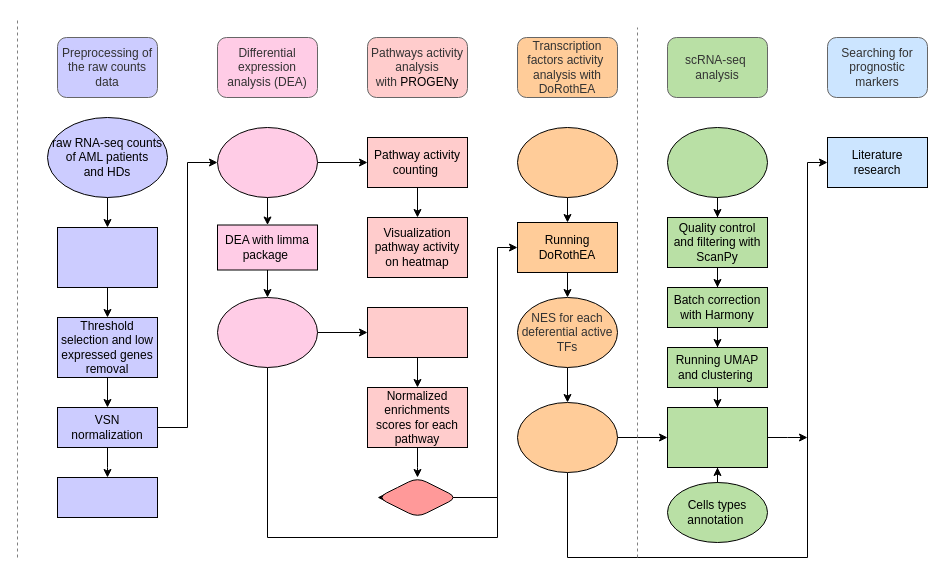
Some shapes in this 945 by 583 pixel diagram are drawn without their labels. Here are the shapes that lost their labels. From the top down, the centre of each, then its label:
point (267, 162): Normalized RNA-seq data
point (567, 162): DoRothEA Regulons
point (717, 162): scRNA-seq counts of AML patinets
point (107, 257): Visualizing log-transformed count data with violin plots
point (267, 332): Table with DEA statistics
point (417, 332): Running an enrichment analysis
point (567, 437): Top-100 differentially active TFs
point (717, 437): Visualizing TFs expression levels in cell types
point (107, 497): PCA visualization
point (417, 497): checkpoint
